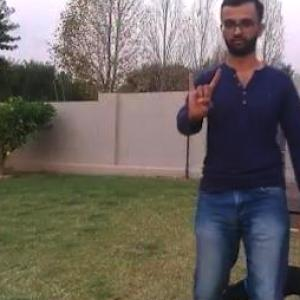takeoff-hand: (180, 59, 226, 130)
